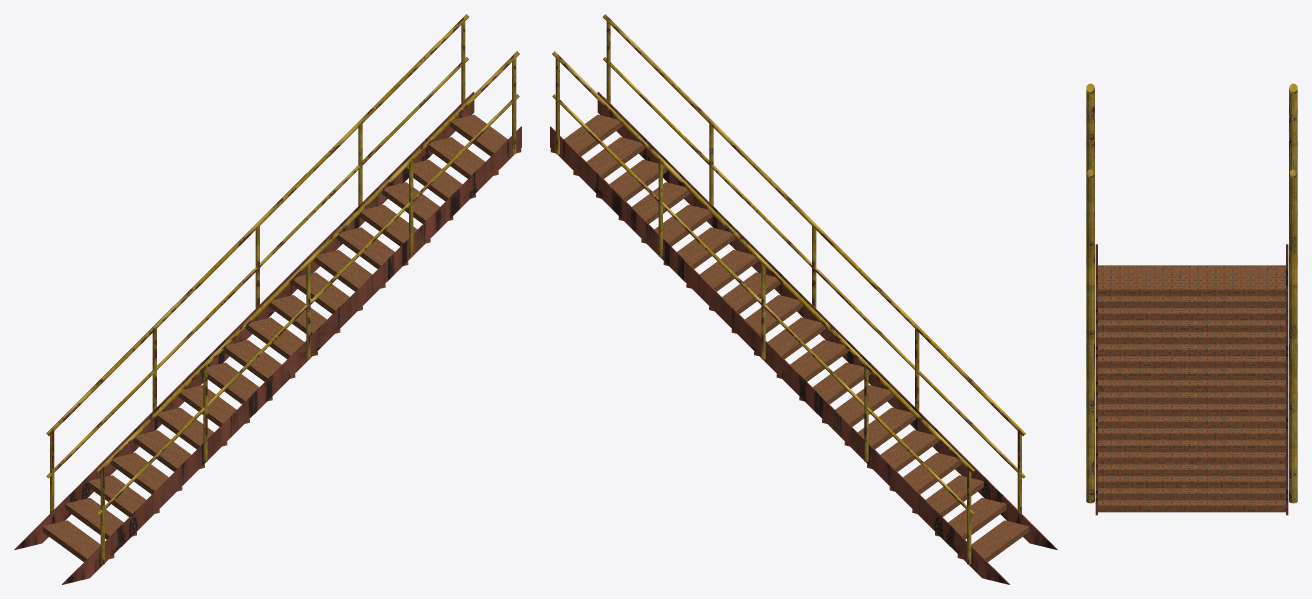
File: merdiven_rampa_3_6m.gltf
3 views of the same model, side by side, from view 1: azimuth 30°, elevation 25°; view 2: azimuth 150°, elevation 25°; view 3: azimuth 270°, elevation 25° (orthographic). The views are drawn at different scales.
Parts seen in each view (by area): view 1: merdiven_rampa_3_6m; view 2: merdiven_rampa_3_6m; view 3: merdiven_rampa_3_6m.
Boxes of the visible parts, bbox=[...] form: merdiven_rampa_3_6m: bbox=[14, 14, 521, 584]; merdiven_rampa_3_6m: bbox=[550, 14, 1057, 584]; merdiven_rampa_3_6m: bbox=[1086, 83, 1297, 515].
Size of what is drawn, in the model's own units: 5.08 by 4.48 by 1.01.
Materials: 3 (3 with a texture image).
